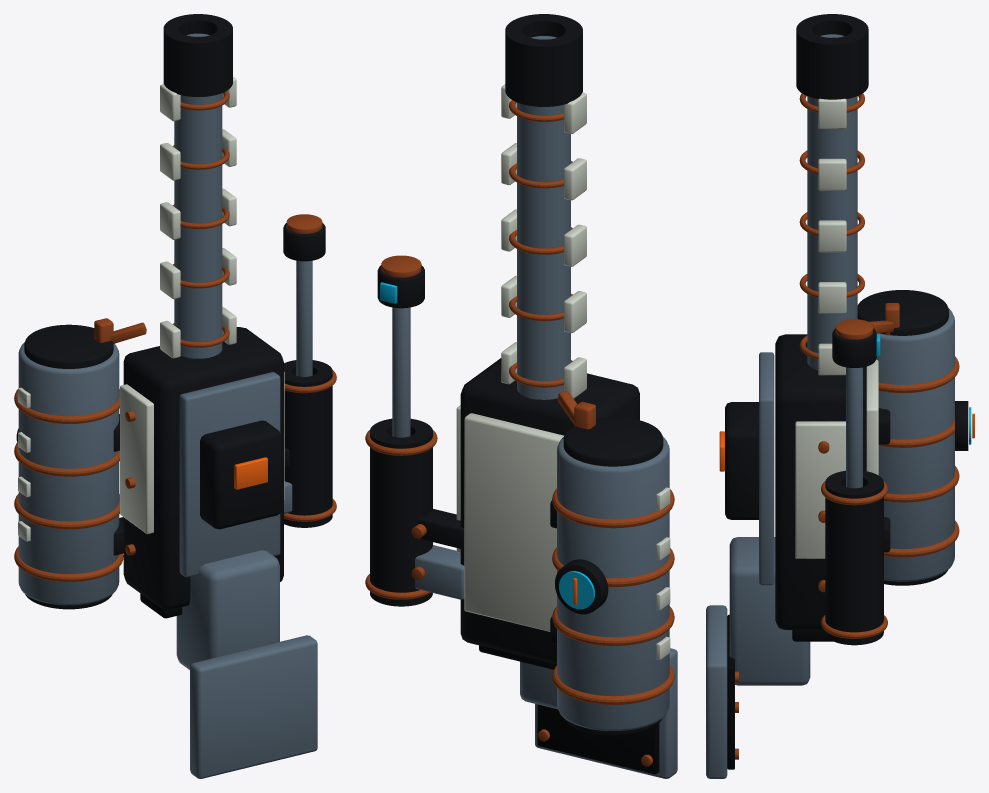
The model's file is M01-012_pneumatic_bolt_launcher.obj.
The picture shows the model from 3 angles, left to right: view 1: azimuth 30°, elevation 25°; view 2: azimuth 150°, elevation 25°; view 3: azimuth 270°, elevation 25°; orthographic projection. The views are drawn at different scales.
Visible parts, largest first — view 1: Pressure_Tank, Socket_Flange, Receiver, Bored_Bolt_Barrel, Receiver_Belly, Riser_Core, Lower_Magazine, Piston_Cylinder_Hollow, Muzzle_Brake, Receiver_Side_Armor_L, Tank_Front_Cap, Ram_Chrome_Rod (+12 smaller); view 2: Pressure_Tank, Receiver_Ceramic_Top, Bored_Bolt_Barrel, Receiver, Piston_Cylinder_Hollow, Muzzle_Brake, Socket_Seal, Tank_Front_Cap, Ram_Chrome_Rod, Socket_Flange, Piston_Support_Inner, Riser_Core (+17 smaller); view 3: Pressure_Tank, Receiver, Piston_Cylinder_Hollow, Bored_Bolt_Barrel, Riser_Core, Muzzle_Brake, Receiver_Side_Armor_R, Lower_Magazine, Socket_Flange, Receiver_Belly, Tank_Front_Cap, Ram_Chrome_Rod (+16 smaller).
Part boxes in pixels (<box>): Pressure_Tank: <box>18,342,119,605</box>; Socket_Flange: <box>190,635,317,778</box>; Receiver: <box>123,327,283,609</box>; Bored_Bolt_Barrel: <box>174,33,222,358</box>; Receiver_Belly: <box>179,372,280,577</box>; Riser_Core: <box>176,550,279,669</box>; Lower_Magazine: <box>200,420,281,529</box>; Piston_Cylinder_Hollow: <box>284,360,332,527</box>; Muzzle_Brake: <box>163,14,232,96</box>; Receiver_Side_Armor_L: <box>120,384,153,534</box>; Tank_Front_Cap: <box>24,324,113,368</box>; Ram_Chrome_Rod: <box>296,260,312,376</box>; Pressure_Tank: <box>557,437,669,731</box>; Receiver_Ceramic_Top: <box>464,413,563,631</box>; Bored_Bolt_Barrel: <box>517,36,570,399</box>; Receiver: <box>460,358,639,664</box>; Piston_Cylinder_Hollow: <box>370,418,432,606</box>; Muzzle_Brake: <box>505,14,582,106</box>; Socket_Seal: <box>537,704,659,774</box>; Tank_Front_Cap: <box>563,417,663,466</box>; Ram_Chrome_Rod: <box>392,307,410,437</box>; Socket_Flange: <box>535,648,677,778</box>; Piston_Support_Inner: <box>415,545,464,599</box>; Riser_Core: <box>520,661,557,709</box>; Pressure_Tank: <box>876,308,954,581</box>; Receiver: <box>775,334,866,629</box>; Piston_Cylinder_Hollow: <box>825,470,883,645</box>; Bored_Bolt_Barrel: <box>807,34,857,370</box>; Riser_Core: <box>729,537,810,685</box>; Muzzle_Brake: <box>796,14,868,99</box>; Receiver_Side_Armor_R: <box>795,421,845,558</box>; Lower_Magazine: <box>725,402,758,519</box>; Socket_Flange: <box>706,605,727,778</box>; Receiver_Belly: <box>759,352,774,585</box>; Tank_Front_Cap: <box>857,290,948,335</box>; Ram_Chrome_Rod: <box>846,367,862,488</box>.
Size of the model in its own units: 0.813 by 1.87 by 0.632.
